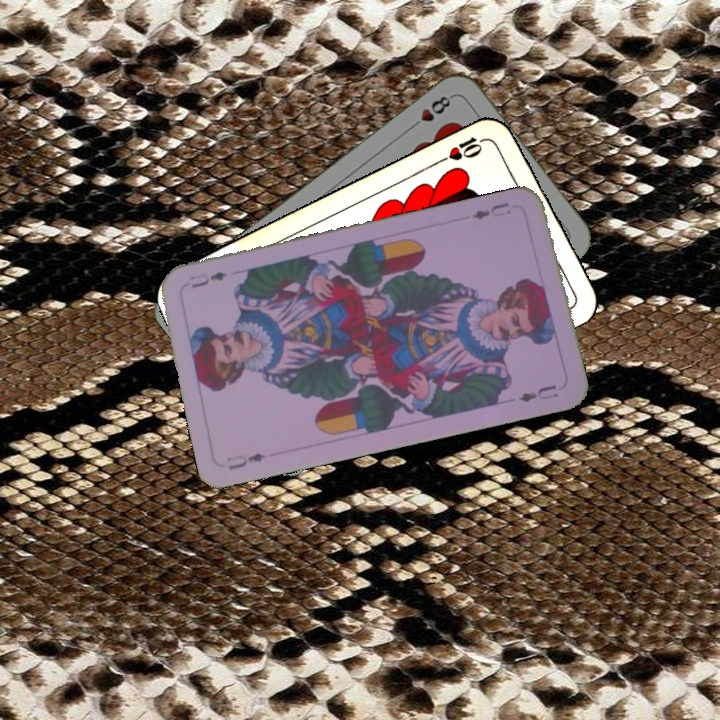EU: (468, 198, 514, 223), (222, 449, 268, 472)
H10: (435, 132, 491, 165)
H8: (406, 91, 456, 132)
